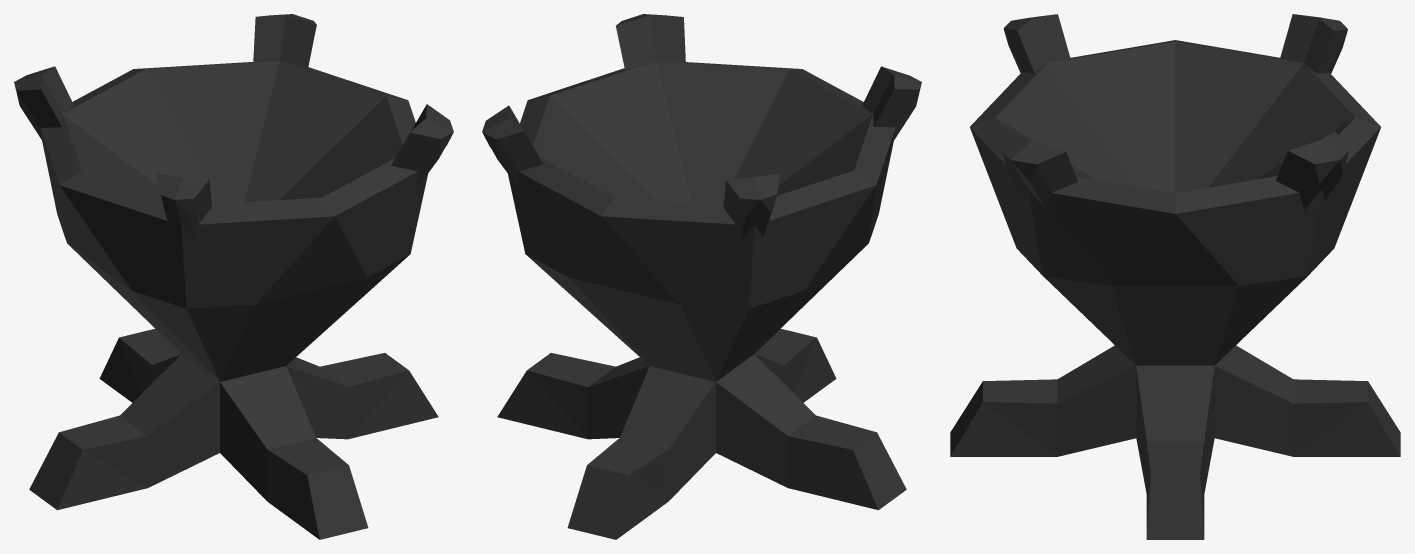
Rendered from FireBowl.fbx.
3 views of the same model, side by side, from view 1: azimuth 30°, elevation 25°; view 2: azimuth 150°, elevation 25°; view 3: azimuth 270°, elevation 25° (orthographic). The views are drawn at different scales.
Parts seen in each view (by area): view 1: FireBowl; view 2: FireBowl; view 3: FireBowl.
Boxes of the visible parts, left/top/right/bottom form: FireBowl: left=14, top=14, right=453, bottom=539; FireBowl: left=482, top=14, right=921, bottom=539; FireBowl: left=950, top=14, right=1400, bottom=539.
Bounding box in the file's own units: 277 × 248 × 277.
